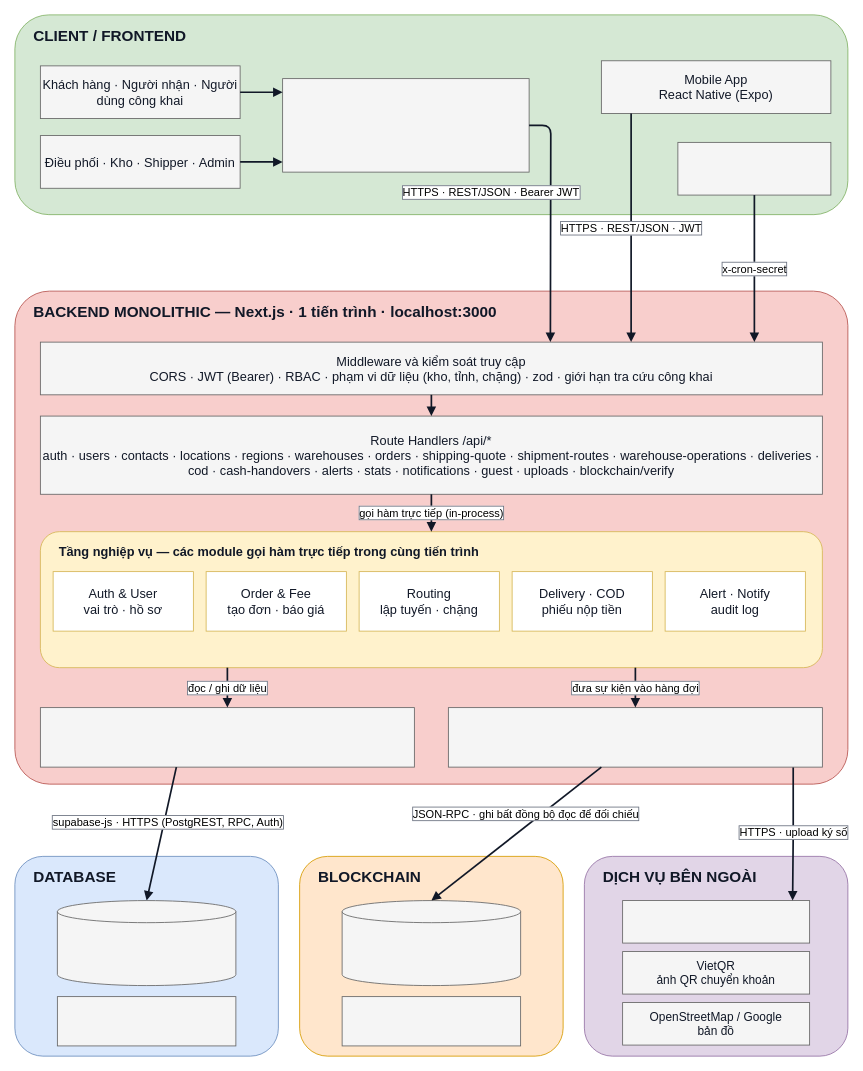
This 863x1071 diagram has some shape labels left out. The shapes that lost their labels are listed below. From the top down, each one's centre as x and y in pixels, then its label:
(x=405, y=125): Web Application Next.js (React, Tailwind) chạy trên trình duyệt
(x=754, y=168): Bộ lập lịch Cron
(x=227, y=737): Repository + supabase-js service role · hàm RPC nguyên tử
(x=635, y=737): Hàng đợi ghi Blockchain ethers.js · ghi bất đồng bộ
(x=716, y=921): Cloudinary ảnh bằng chứng, QR MoMo
(x=146, y=943): PostgreSQL (Supabase) 1 CSDL dùng chung
(x=431, y=943): Smart contract DeliveryTracking Polygon Amoy
(x=146, y=1021): Supabase Auth OTP email
(x=431, y=1021): Ví operator ethers.js
